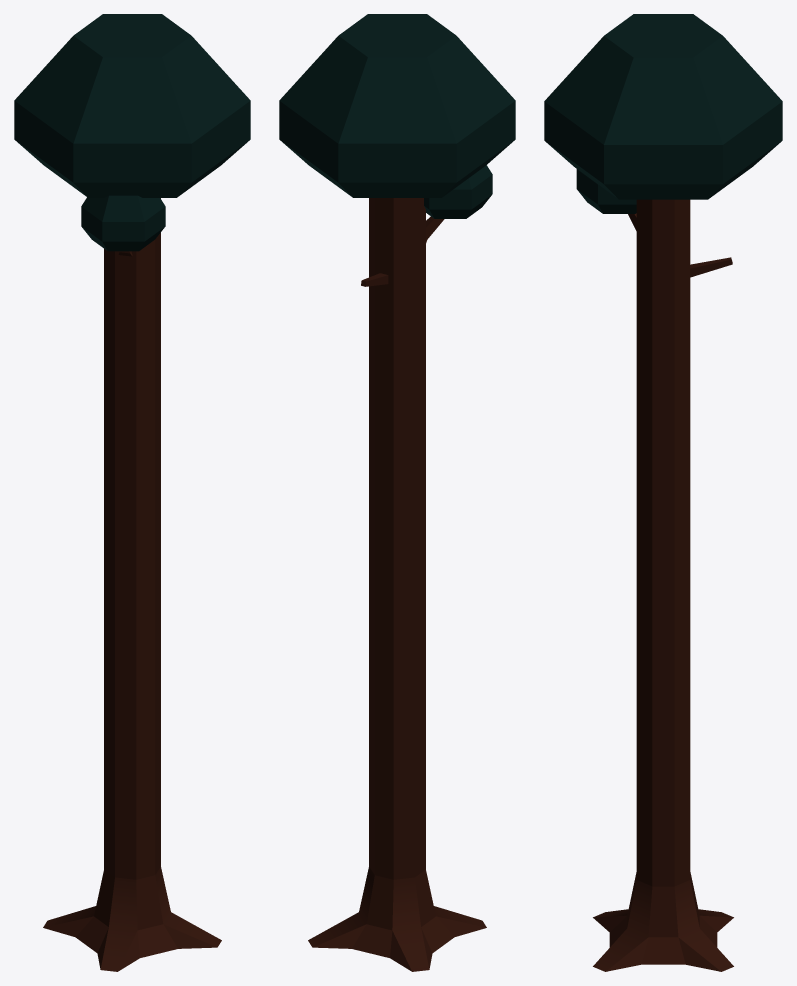
Rendered from LongTree3.fbx.
3 views of the same model, side by side, from view 1: azimuth 30°, elevation 25°; view 2: azimuth 150°, elevation 25°; view 3: azimuth 270°, elevation 25° (orthographic).
Parts seen in each view (by area): view 1: mergedBlocks; view 2: mergedBlocks; view 3: mergedBlocks.
Part boxes in pixels (box(x1,y1,x2,y2)): mergedBlocks: box(14, 14, 250, 971); mergedBlocks: box(279, 14, 515, 971); mergedBlocks: box(544, 14, 782, 971).
Bounding box in the file's own units: 14 × 67.8 × 16.17.
